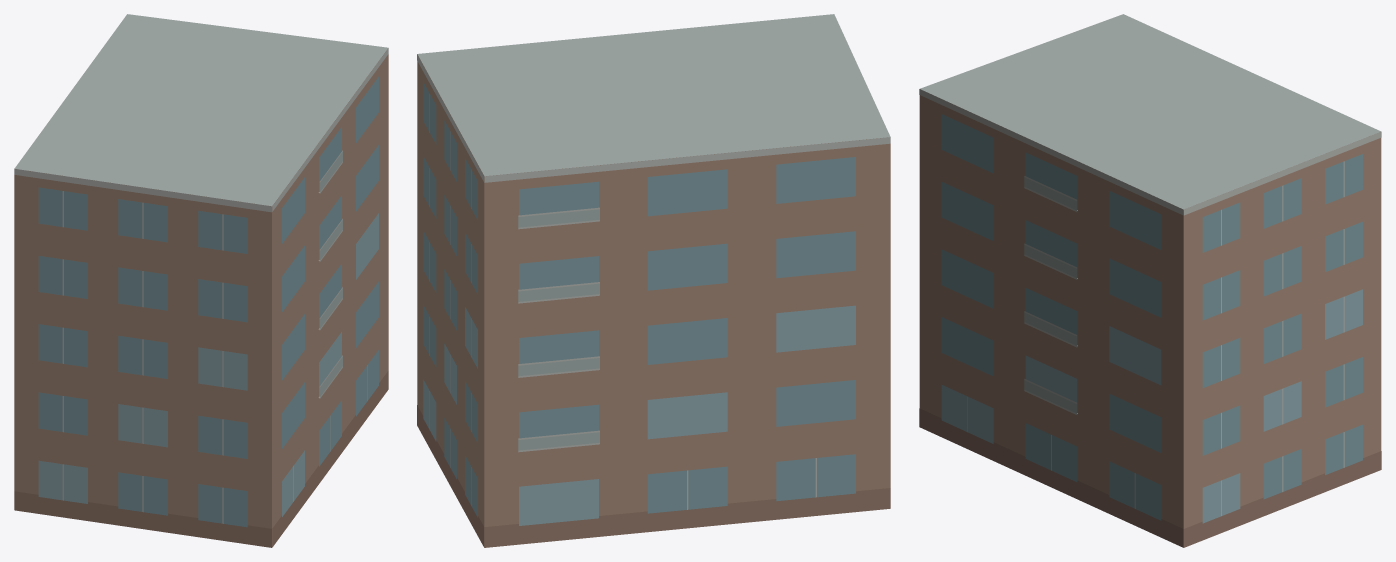
Rendered from survey-upis-32847888.glb.
3 views of the same model, side by side, from view 1: azimuth 30°, elevation 25°; view 2: azimuth 150°, elevation 25°; view 3: azimuth 270°, elevation 25° (orthographic). The views are drawn at different scales.
Visible parts, largest first — view 1: survey-upis-32847888.tmp; view 2: survey-upis-32847888.tmp; view 3: survey-upis-32847888.tmp.
Part boxes in pixels (x1,y1,x2,y2): survey-upis-32847888.tmp: [14, 14, 388, 547]; survey-upis-32847888.tmp: [417, 14, 890, 547]; survey-upis-32847888.tmp: [919, 14, 1381, 547].
Bounding box in the file's own units: 17.06 × 13.75 × 17.02.
